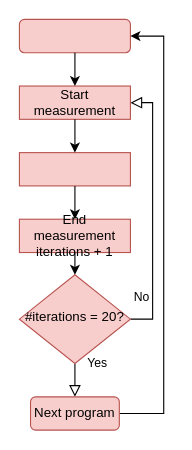
Image size: 192x450. Some labels were removed from this diagram. The box of each missing label's shape, as (x1, y1, x2, y2) in pixels:
Program setup: (18, 18, 130, 53)
Run NN: (18, 152, 130, 186)
